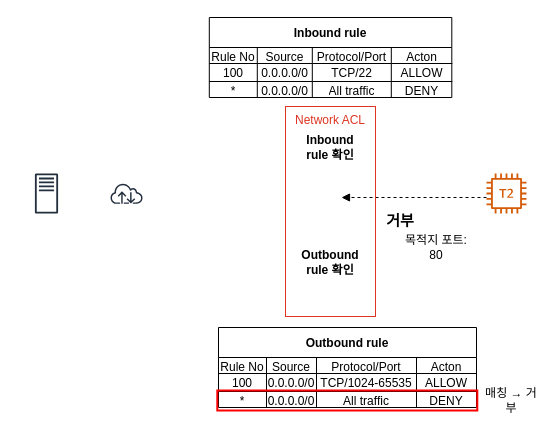
Image size: 559x433. Some labels were removed from this diagram. Here are the shapes that lost their labels. From the top down, the centre of each, then its label:
At [46,193]: "외부 웹서버".
At [126,193]: "Internet".
